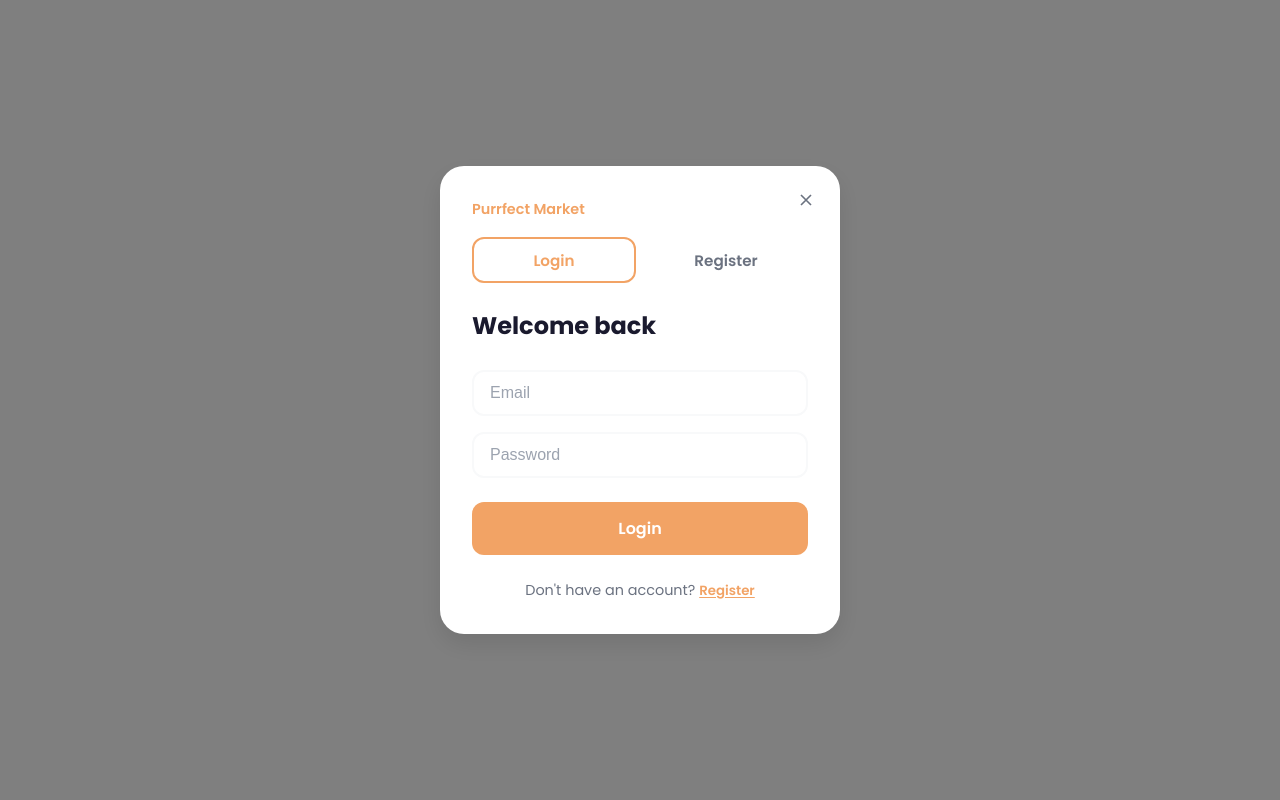
Test: AuthModal › switches to register mode and shows the name field
This screenshot has width=1280, height=800.
// "Register" appears both as the tab and as the bottom switch link — the tab is first in the DOM.
Click the 1st button "Register": (726,260) top-left (644, 237), bottom-right (808, 283)
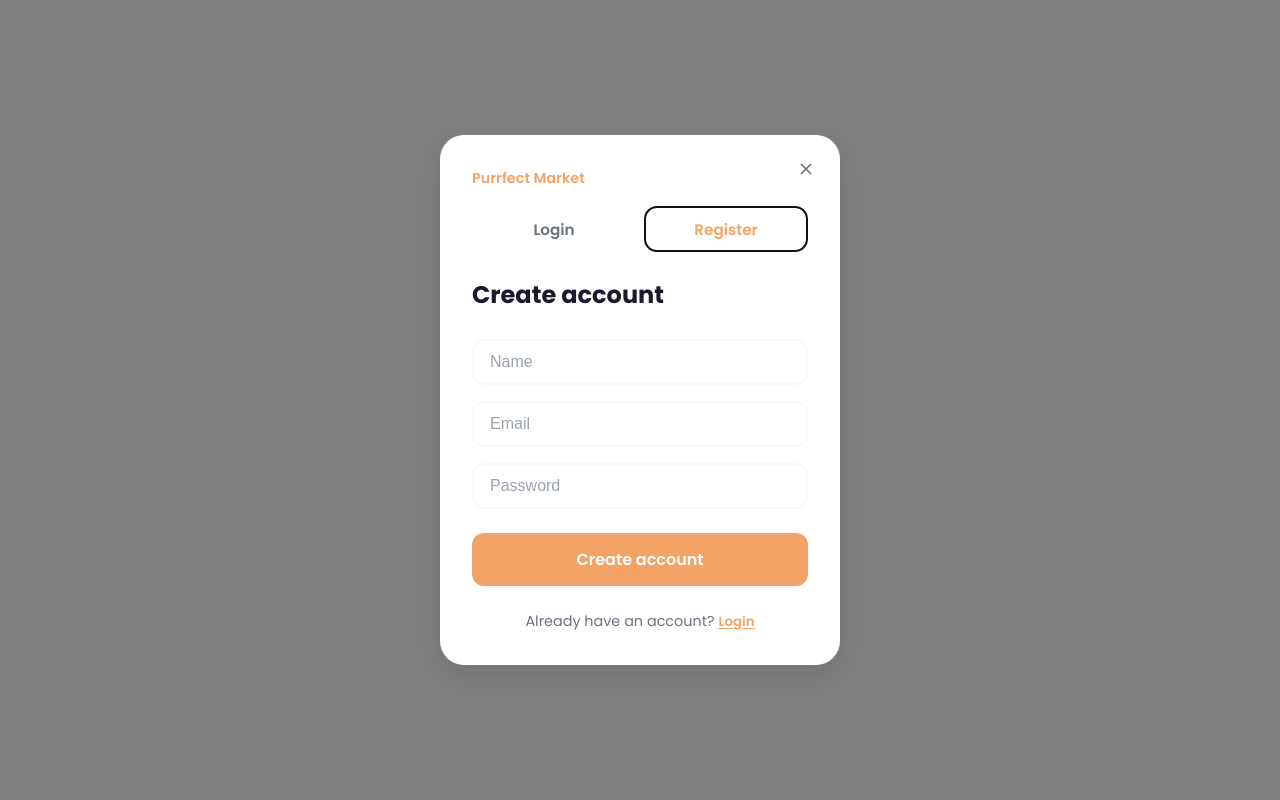
Check: the field with placeholder "Name" is shown, box top-left (472, 339), bottom-right (808, 385)
